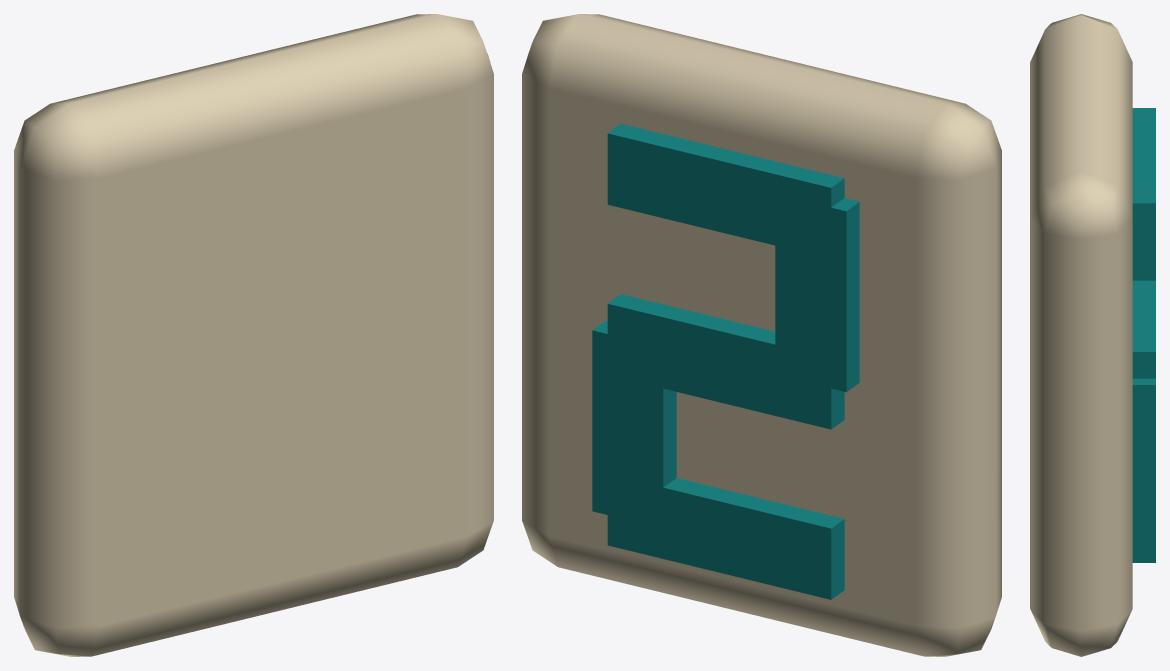
Rendered from letter.glb.
3 renders of one model, left to right at view 1: azimuth 30°, elevation 25°; view 2: azimuth 150°, elevation 25°; view 3: azimuth 270°, elevation 25°, orthographic. The views are drawn at different scales.
Parts seen in each view (by area): view 1: item-letter; view 2: item-letter; view 3: item-letter.
Part boxes in pixels (left/top/right/bottom): item-letter: left=14, top=14, right=493, bottom=656; item-letter: left=522, top=14, right=1001, bottom=656; item-letter: left=1030, top=14, right=1155, bottom=656.
Bounding box in the file's own units: 0.46 × 0.52 × 0.1225.
